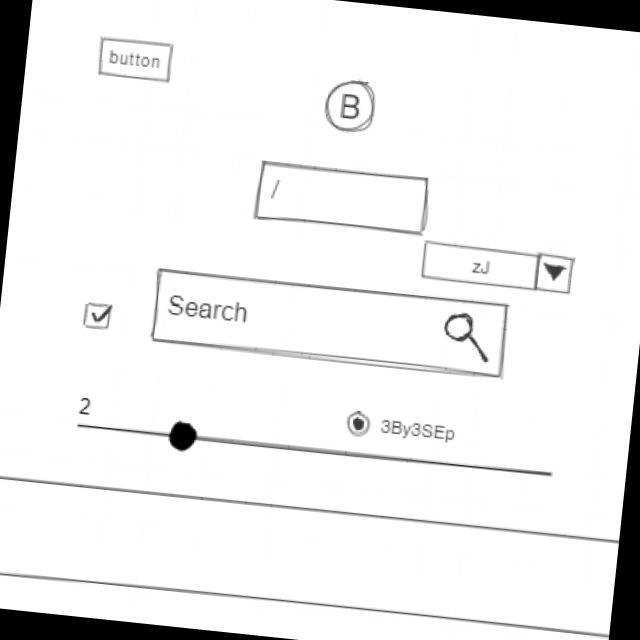button: (95, 35, 178, 86)
checkbox: (82, 299, 116, 333)
container: (1, 472, 620, 640)
icon-button: (322, 76, 379, 137)
input: (252, 158, 435, 239)
radio: (343, 409, 377, 440)
search: (149, 266, 513, 383)
select: (419, 240, 578, 298)
slider: (93, 411, 556, 492)
